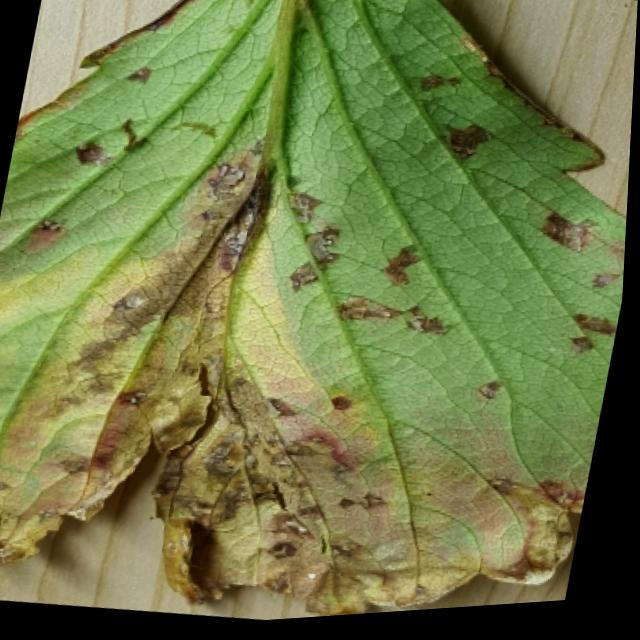Angular Leafspot: (0, 0, 630, 622)
